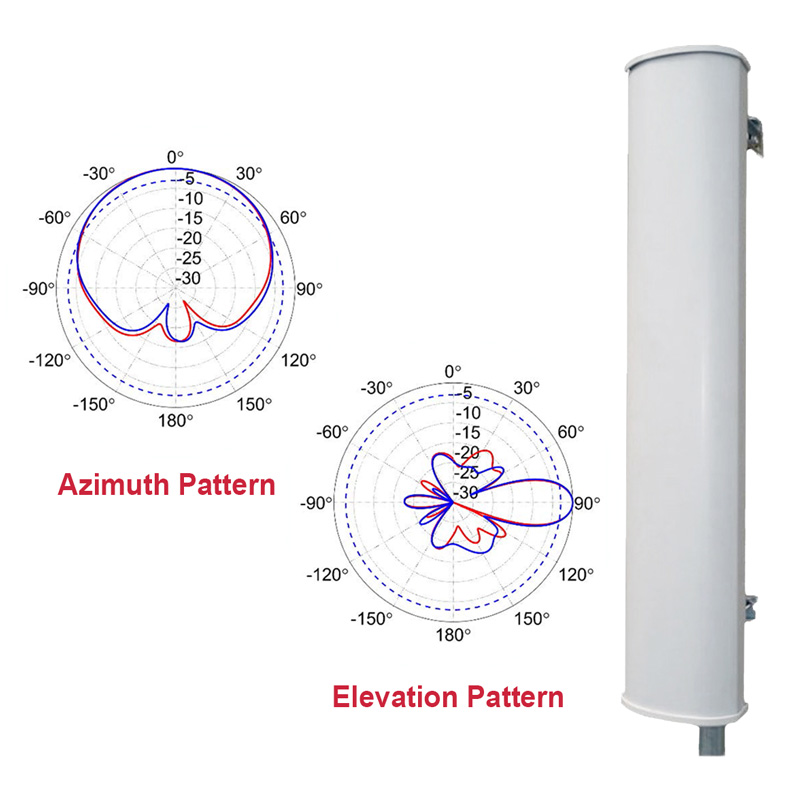sa: (600, 44, 761, 753)
